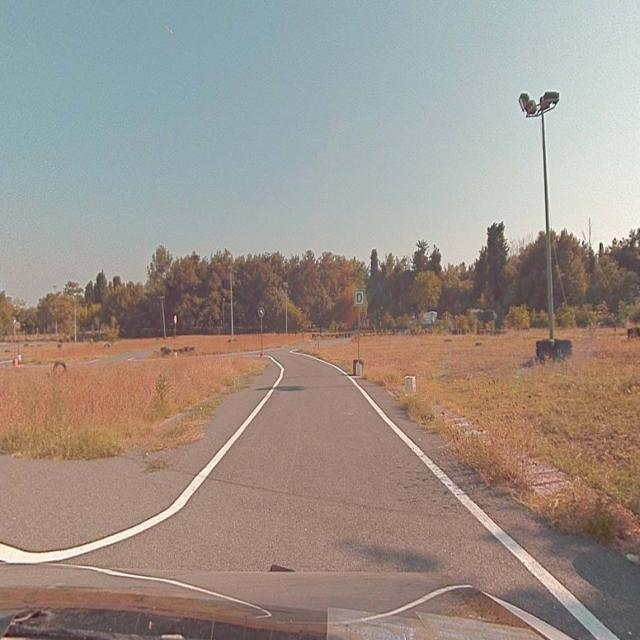durak: (355, 290, 364, 306)
sol: (259, 306, 265, 317)
